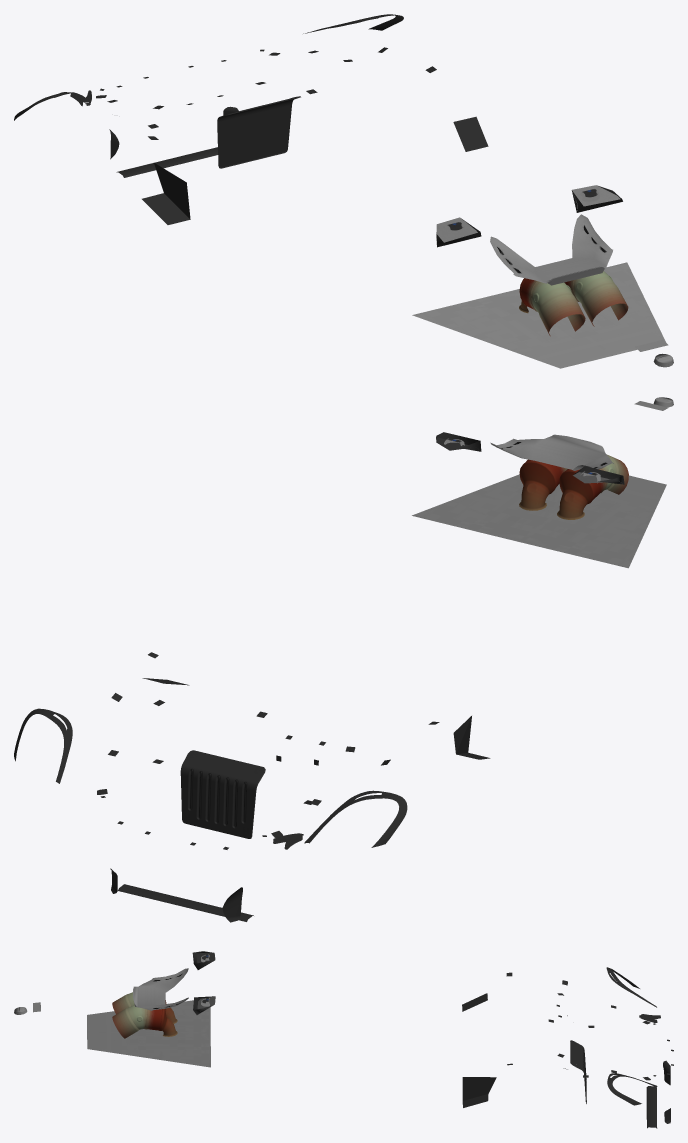
File: Engine.obj
3 renders of one model, top to bottom at view 1: azimuth 30°, elevation 25°; view 2: azimuth 150°, elevation 25°; view 3: azimuth 270°, elevation 25°, orthographic. The views are drawn at different scales.
Visible parts, largest first — view 1: p:Kit1_Engine_Geo_lodA_Kit1_Engine_Geo_lodA_Porsche_918SpyderRew; view 2: p:Kit1_Engine_Geo_lodA_Kit1_Engine_Geo_lodA_Porsche_918SpyderRew; view 3: p:Kit1_Engine_Geo_lodA_Kit1_Engine_Geo_lodA_Porsche_918SpyderRew.
Boxes of the visible parts, bbox=[...] form: p:Kit1_Engine_Geo_lodA_Kit1_Engine_Geo_lodA_Porsche_918SpyderRew: bbox=[14, 14, 673, 368]; p:Kit1_Engine_Geo_lodA_Kit1_Engine_Geo_lodA_Porsche_918SpyderRew: bbox=[14, 397, 673, 922]; p:Kit1_Engine_Geo_lodA_Kit1_Engine_Geo_lodA_Porsche_918SpyderRew: bbox=[14, 951, 673, 1128].
Size of the model in its own units: 2.57 by 1.28 by 5.86.
